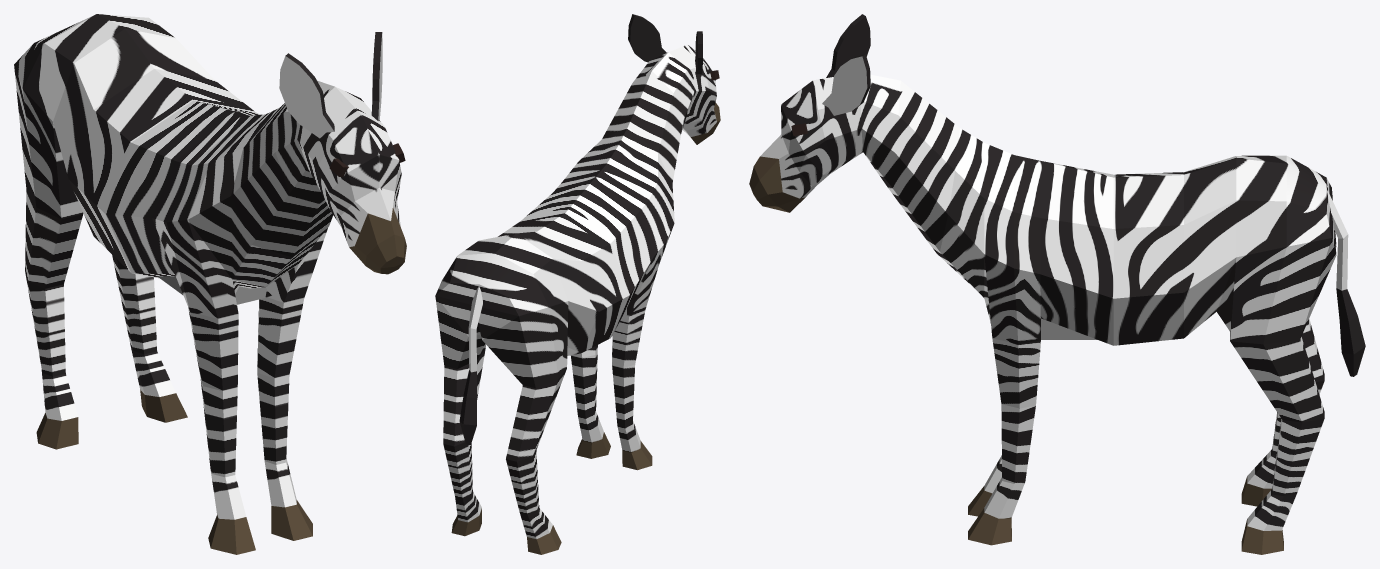
The model's file is zebra.obj.
The picture shows the model from 3 angles, left to right: view 1: azimuth 30°, elevation 25°; view 2: azimuth 150°, elevation 25°; view 3: azimuth 270°, elevation 25°; orthographic projection. The views are drawn at different scales.
Visible parts, largest first — view 1: Geo_Zebra, Cube; view 2: Geo_Zebra; view 3: Geo_Zebra.
Boxes of the visible parts, box(x1,y1,x2,y2) form: Geo_Zebra: box(14, 14, 406, 554); Cube: box(157, 276, 266, 304); Geo_Zebra: box(435, 14, 720, 554); Geo_Zebra: box(749, 14, 1365, 554).
Bounding box in the file's own units: 4.01 × 11.85 × 13.55.
